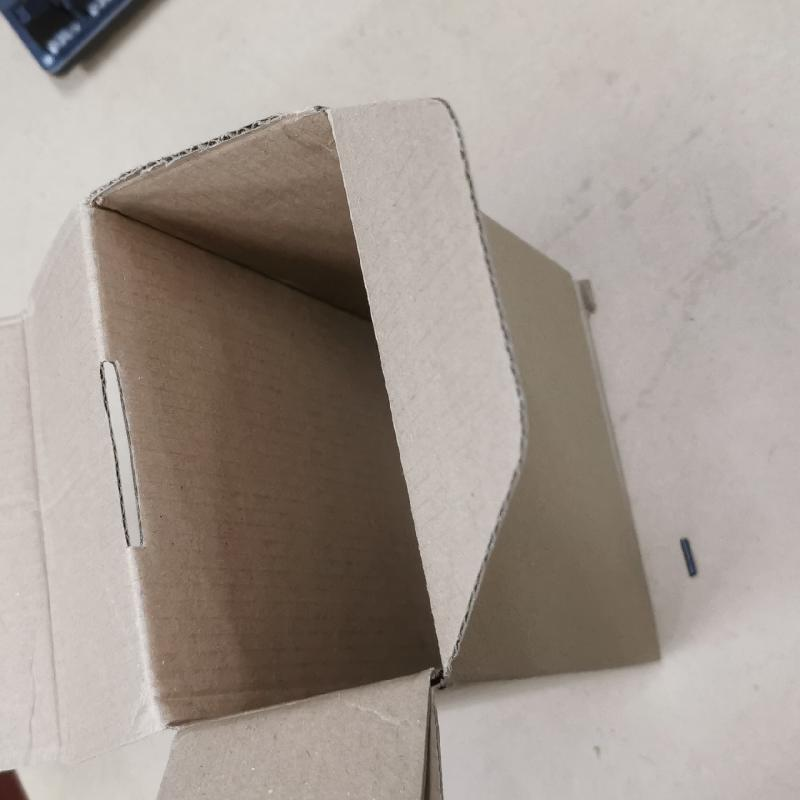boxes: (0, 95, 673, 800)
